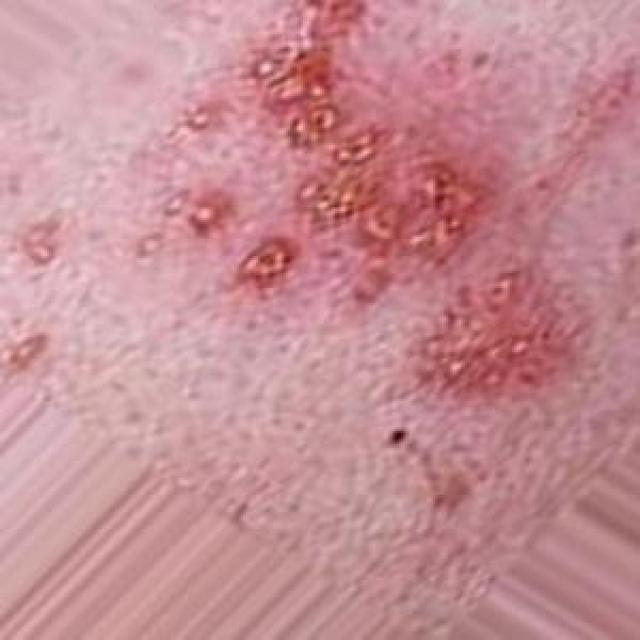Shingles: (175, 0, 571, 391)
